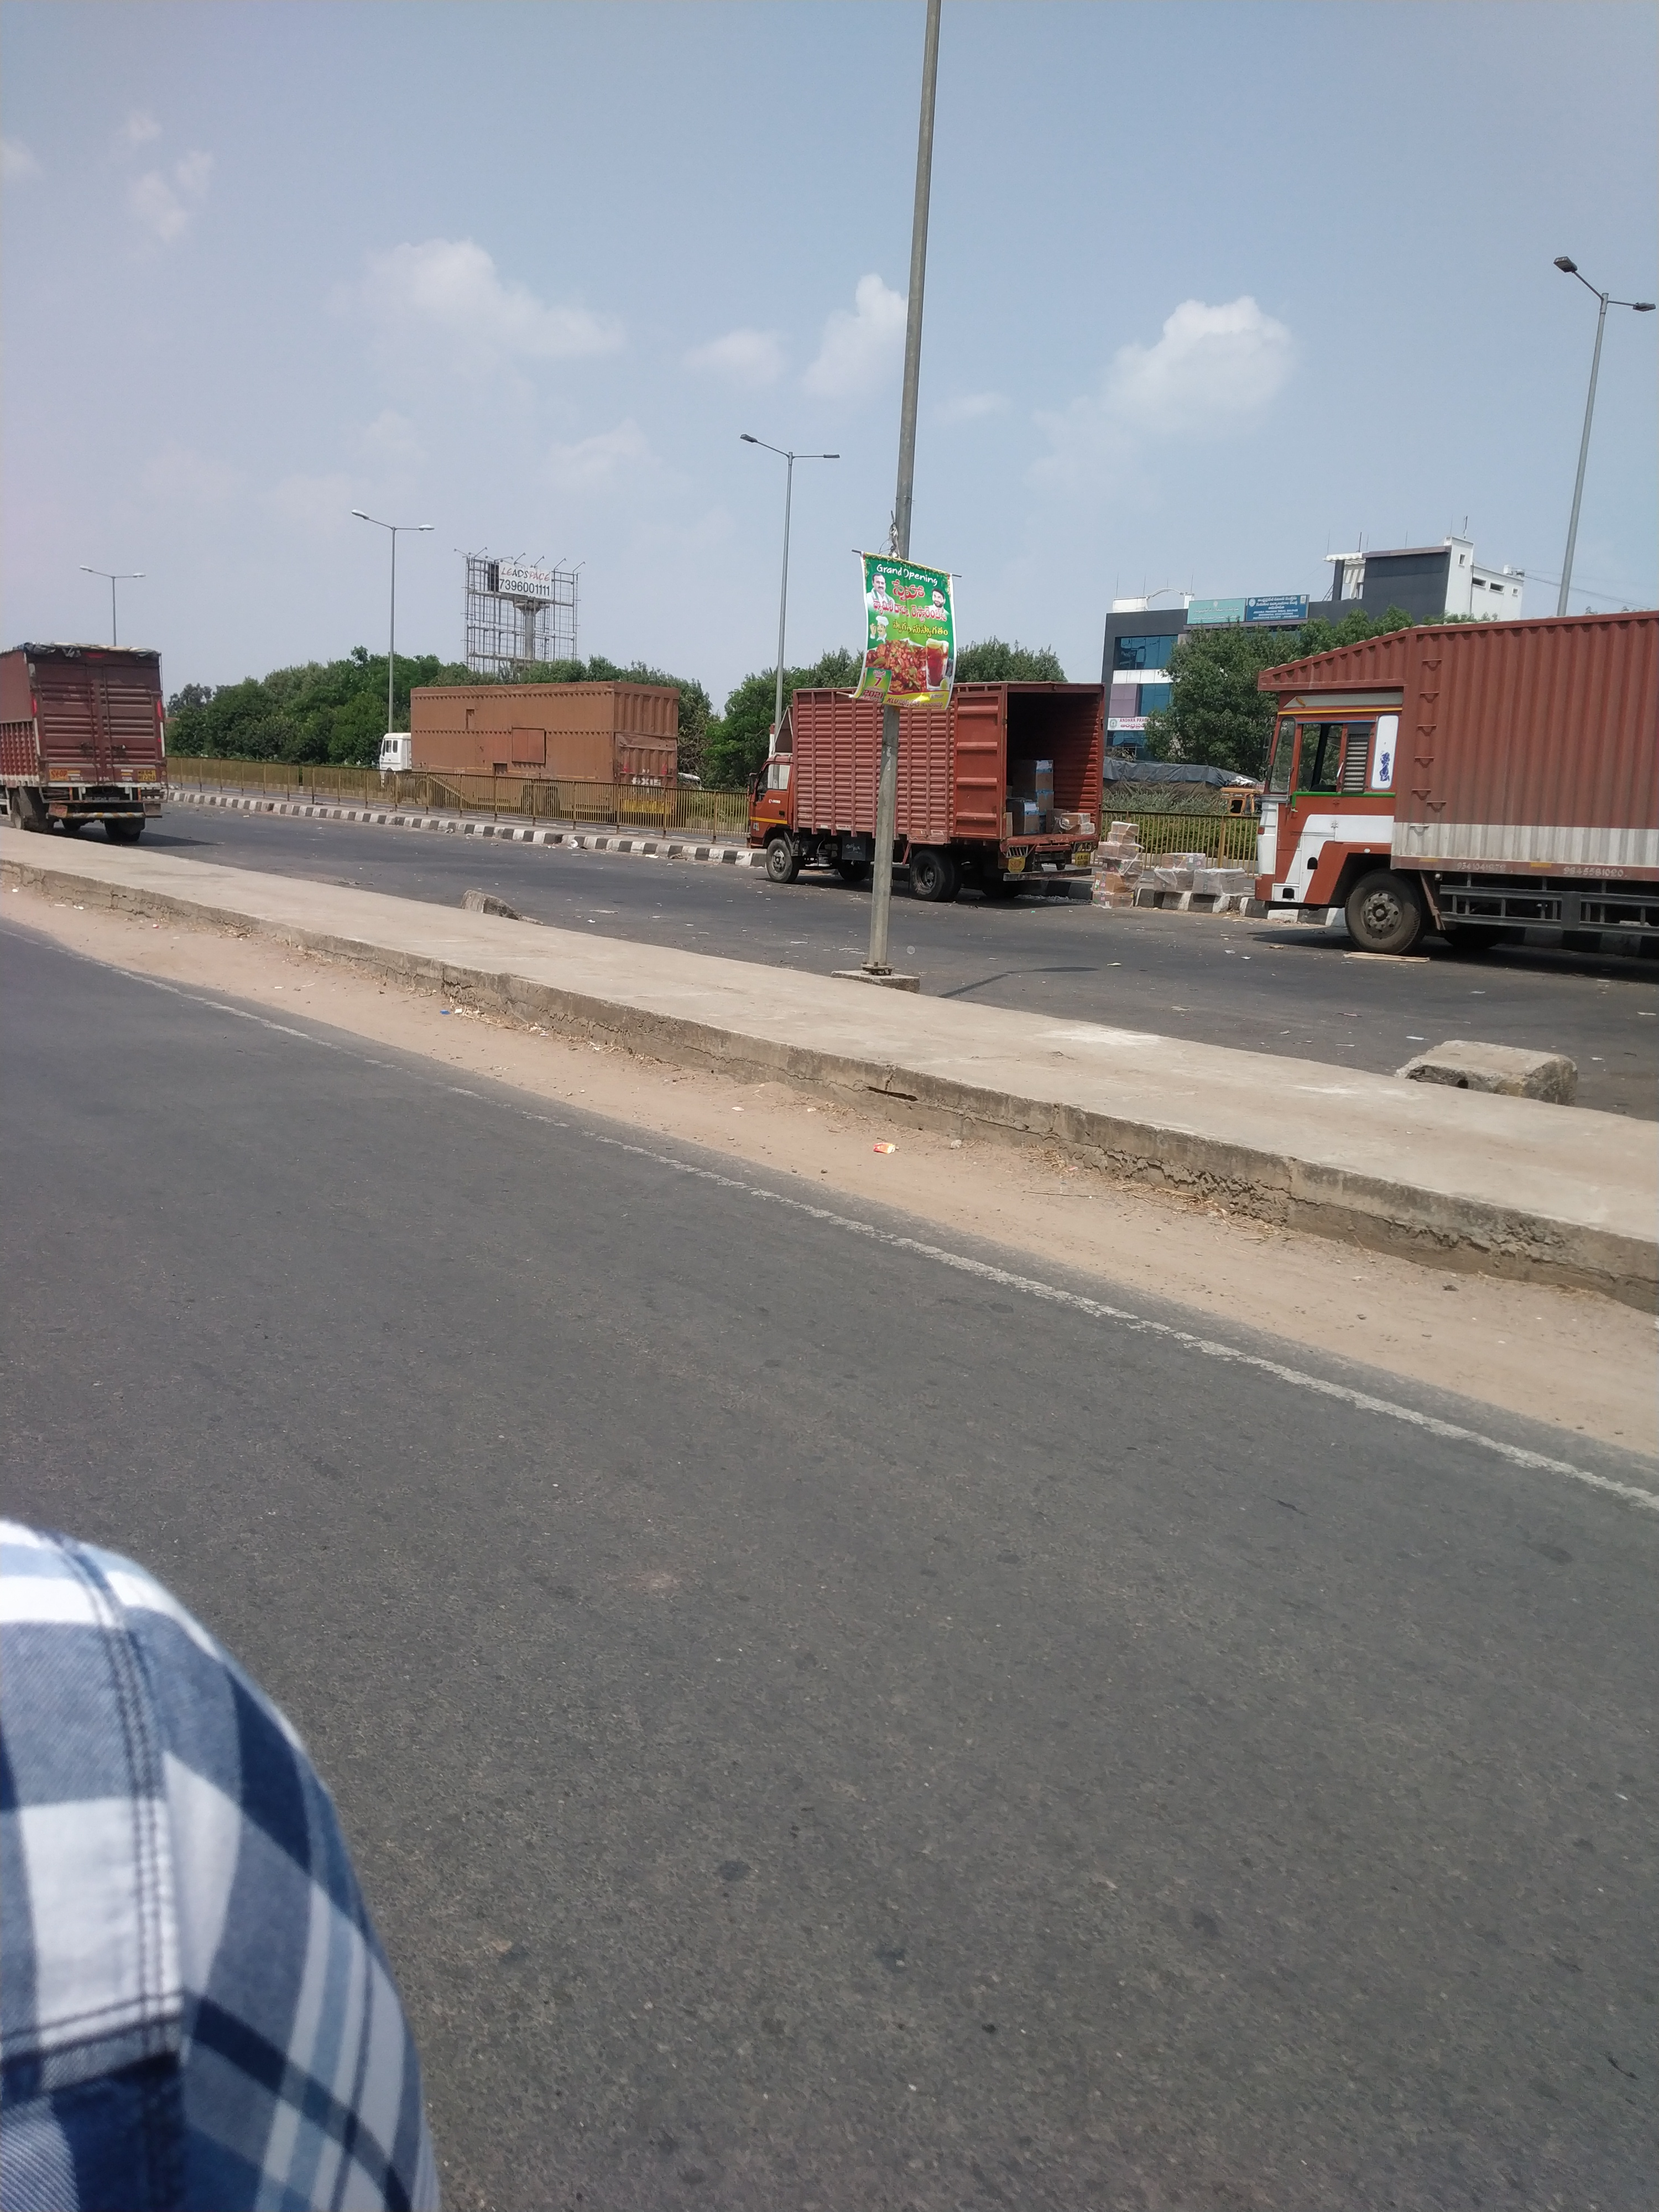truck: (1253, 608, 1659, 960), (744, 679, 1107, 902), (378, 679, 680, 817), (0, 639, 169, 843), (1101, 754, 1265, 817)
